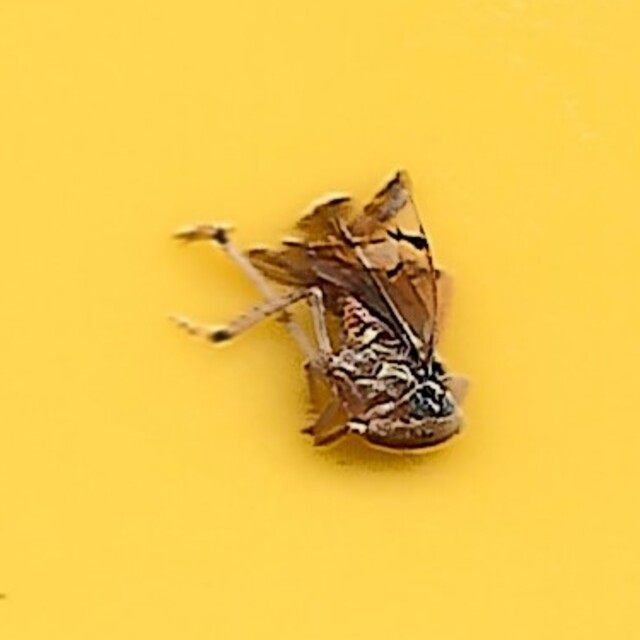Hemiptera: (171, 173, 469, 467)
